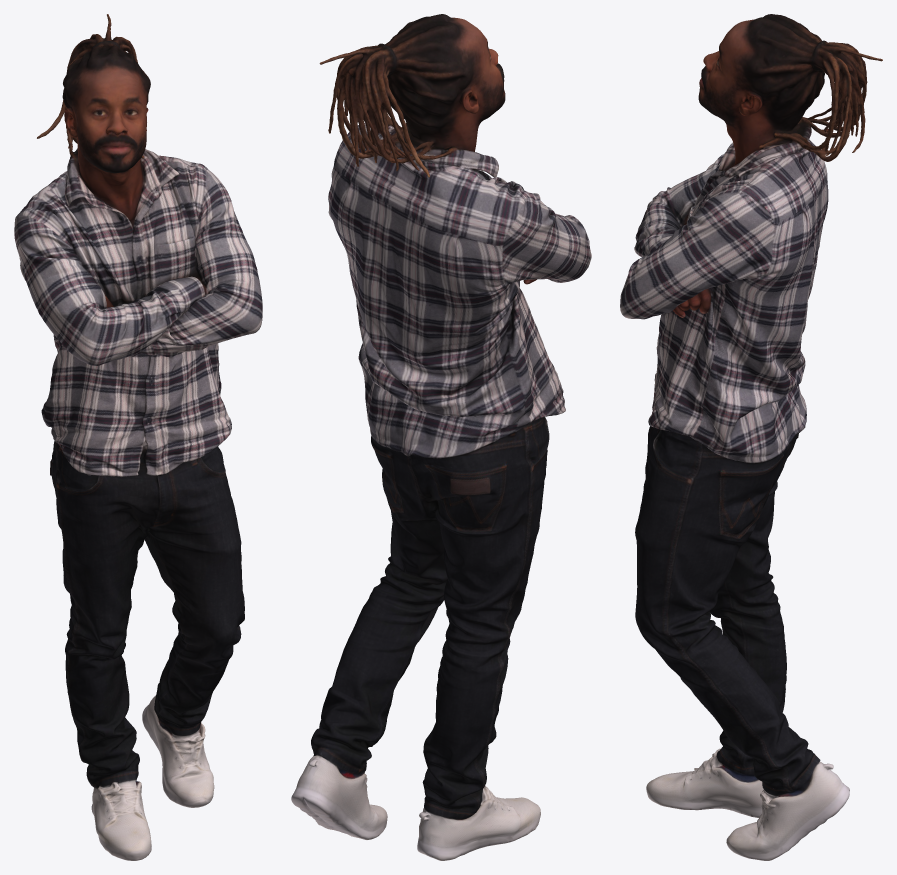
The picture shows the model from 3 angles, left to right: view 1: azimuth 30°, elevation 25°; view 2: azimuth 150°, elevation 25°; view 3: azimuth 270°, elevation 25°; orthographic projection. The views are drawn at different scales.
Parts seen in each view (by area): view 1: rp_posedplus_00068_18_100k; view 2: rp_posedplus_00068_18_100k; view 3: rp_posedplus_00068_18_100k.
Part boxes in pixels (x1,y1,x2,y2): rp_posedplus_00068_18_100k: (14, 14, 262, 860); rp_posedplus_00068_18_100k: (291, 14, 591, 860); rp_posedplus_00068_18_100k: (620, 14, 882, 860).
Bounding box in the file's own units: 0.4663 × 1.69 × 0.5081.
Materials: 1 (1 with a texture image).
